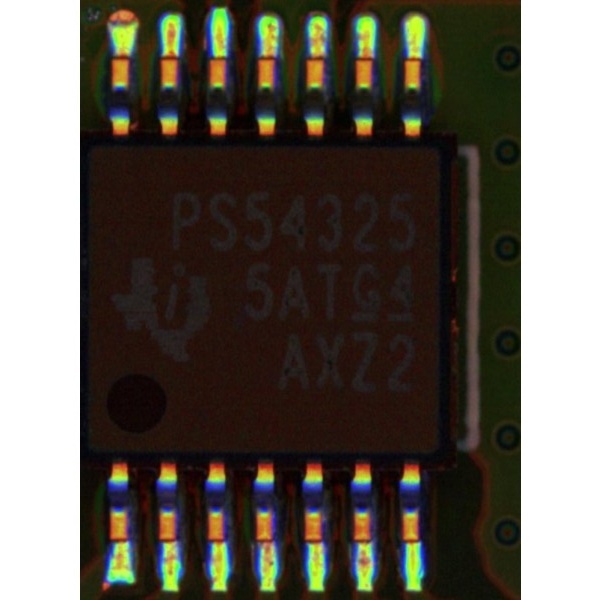Bad_podu: (261, 42, 272, 68), (255, 534, 271, 550), (164, 45, 175, 68), (208, 535, 226, 549), (359, 45, 369, 70)
